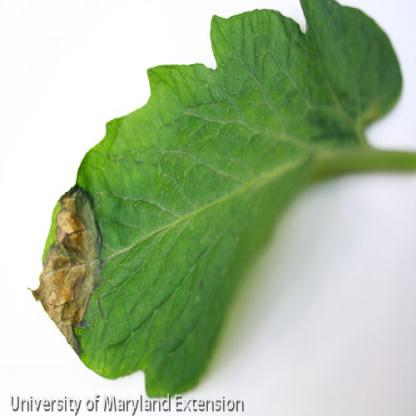Potato leaf late blight: (27, 1, 406, 401)
